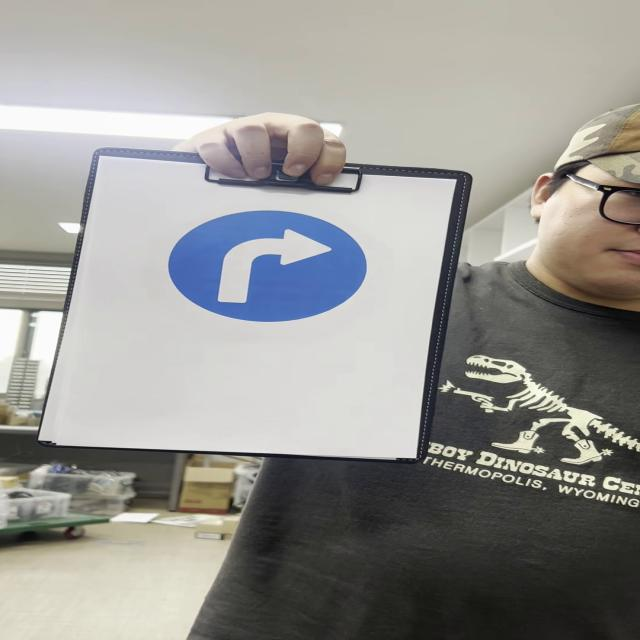right: (170, 212, 369, 322)
